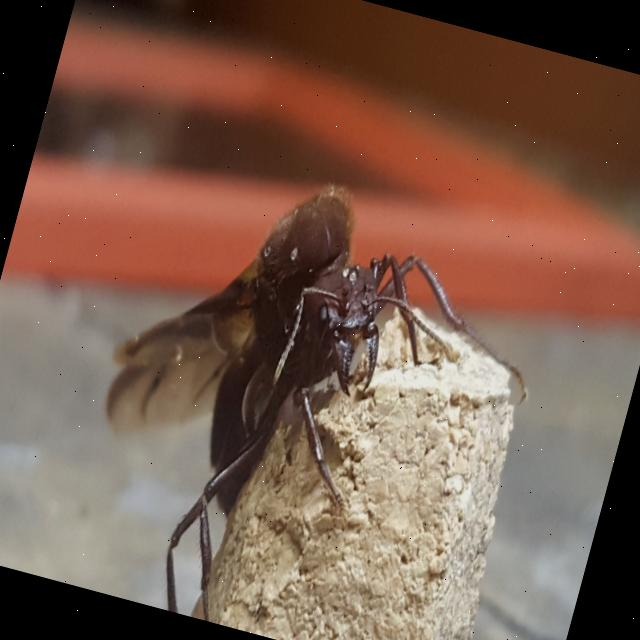Alive-Female-Alate: (50, 138, 569, 640)
